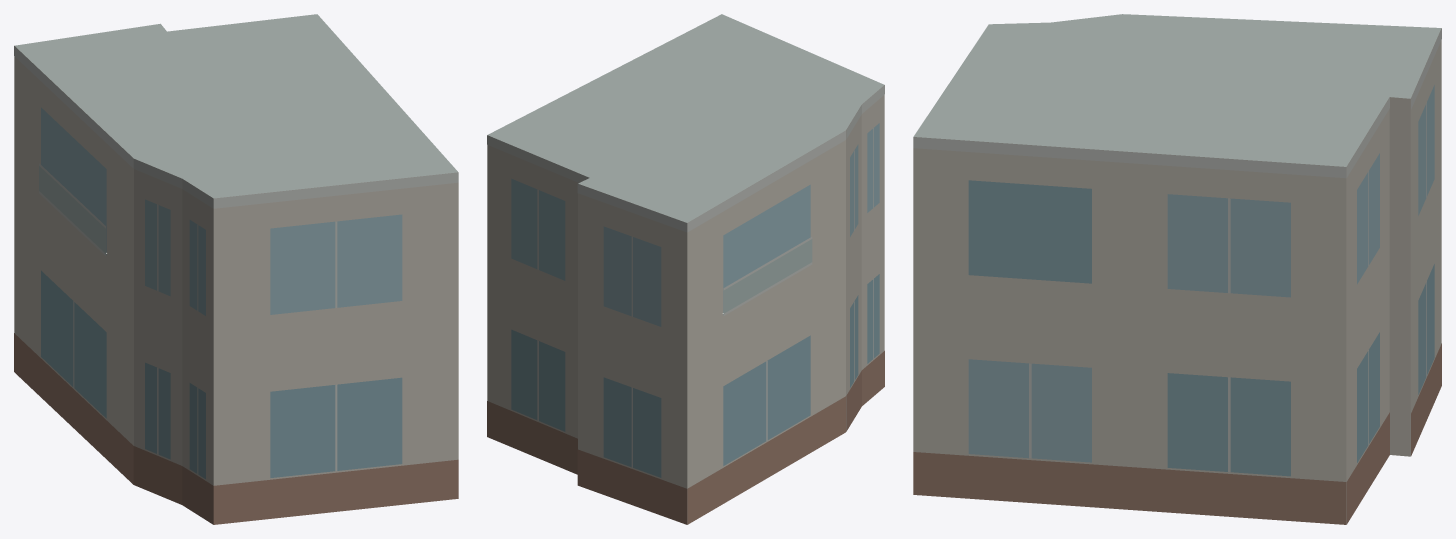
File: survey-upis-32493717.glb
3 renders of one model, left to right at view 1: azimuth 30°, elevation 25°; view 2: azimuth 150°, elevation 25°; view 3: azimuth 270°, elevation 25°, orthographic. The views are drawn at different scales.
Visible parts, largest first — view 1: survey-upis-32493717.tmp; view 2: survey-upis-32493717.tmp; view 3: survey-upis-32493717.tmp.
Boxes of the visible parts, <box> form: survey-upis-32493717.tmp: <box>14,14,458,524</box>; survey-upis-32493717.tmp: <box>487,14,884,524</box>; survey-upis-32493717.tmp: <box>913,14,1441,524</box>.
Size of the model in its own units: 7.07 by 7.7 by 10.31.
